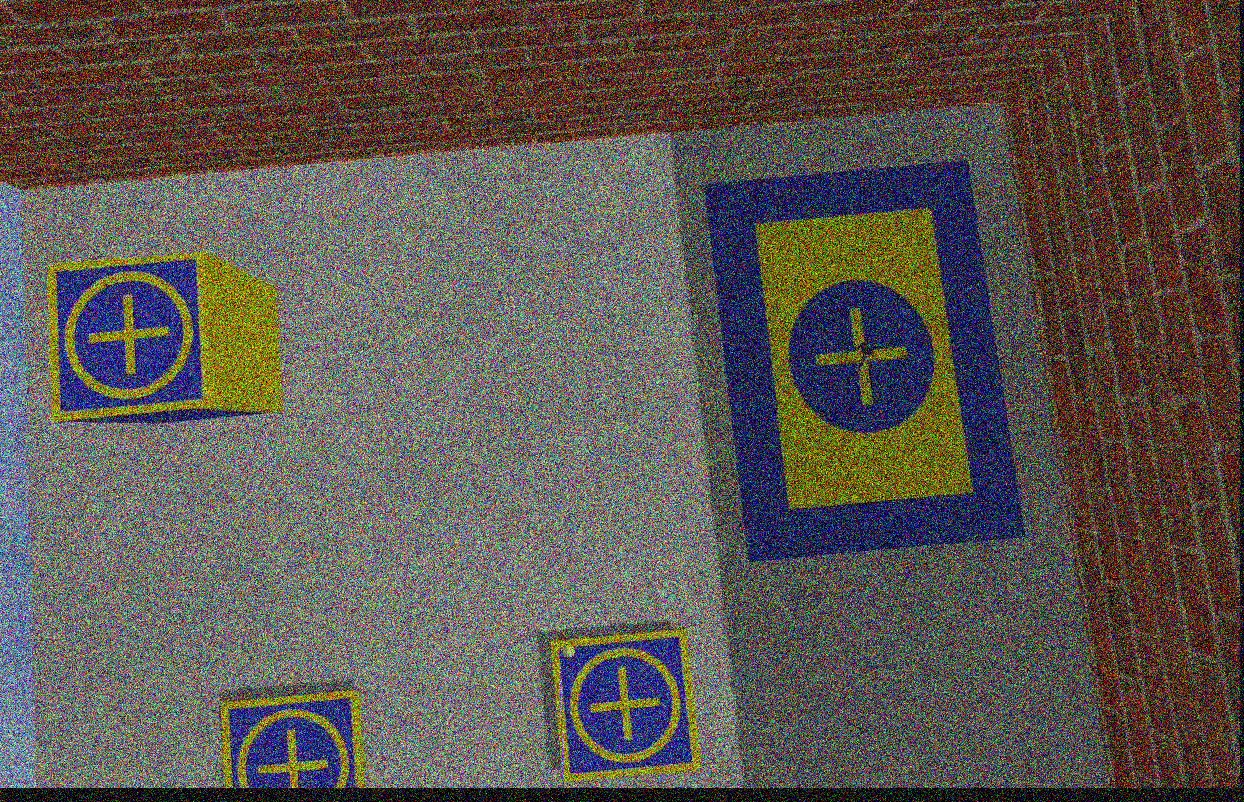large_base: (702, 164, 1025, 563)
small_base: (48, 254, 212, 423), (547, 627, 700, 783), (220, 685, 364, 791)
